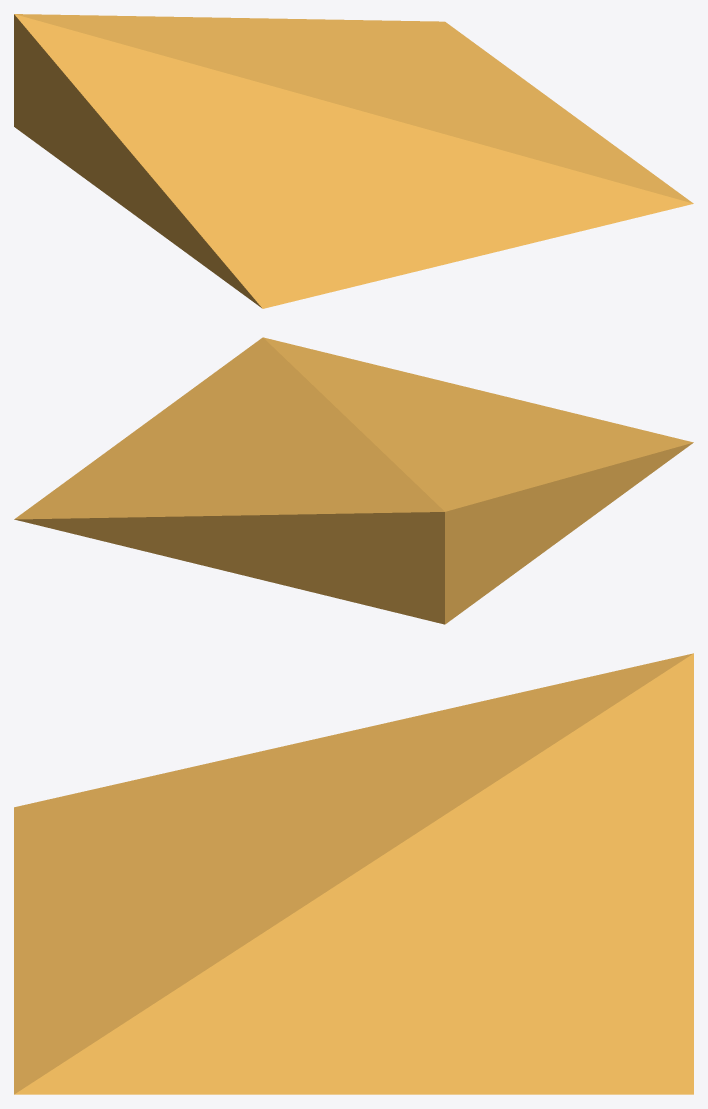
File: Roof-Shallow-4x4x1-Corner-Convex.FBX
3 renders of one model, top to bottom at view 1: azimuth 30°, elevation 25°; view 2: azimuth 150°, elevation 25°; view 3: azimuth 270°, elevation 25°, orthographic. The views are drawn at different scales.
Visible parts, largest first — view 1: Roof-Shallow-4x4x1-Corner-Convex; view 2: Roof-Shallow-4x4x1-Corner-Convex; view 3: Roof-Shallow-4x4x1-Corner-Convex.
Boxes of the visible parts, left/top/right/bottom form: Roof-Shallow-4x4x1-Corner-Convex: left=14, top=14, right=693, bottom=308; Roof-Shallow-4x4x1-Corner-Convex: left=14, top=337, right=693, bottom=624; Roof-Shallow-4x4x1-Corner-Convex: left=14, top=653, right=693, bottom=1094.
Size of the model in its own units: 40 by 40 by 10.
